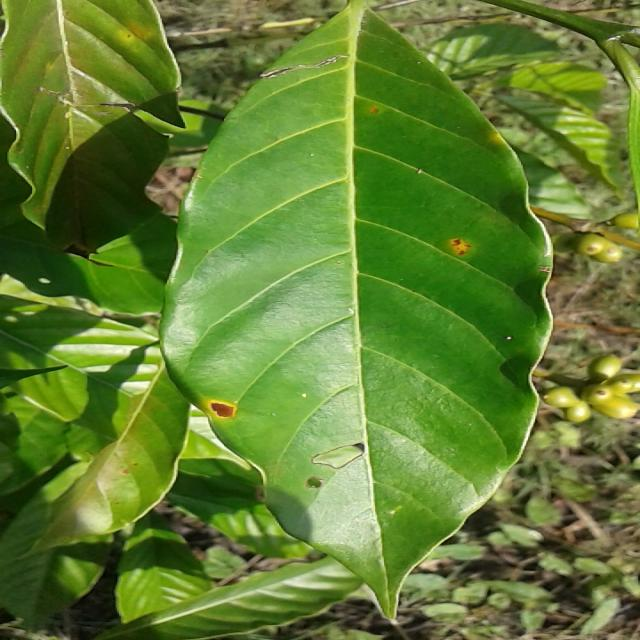Enfermedad-Roya: (159, 0, 554, 622)
